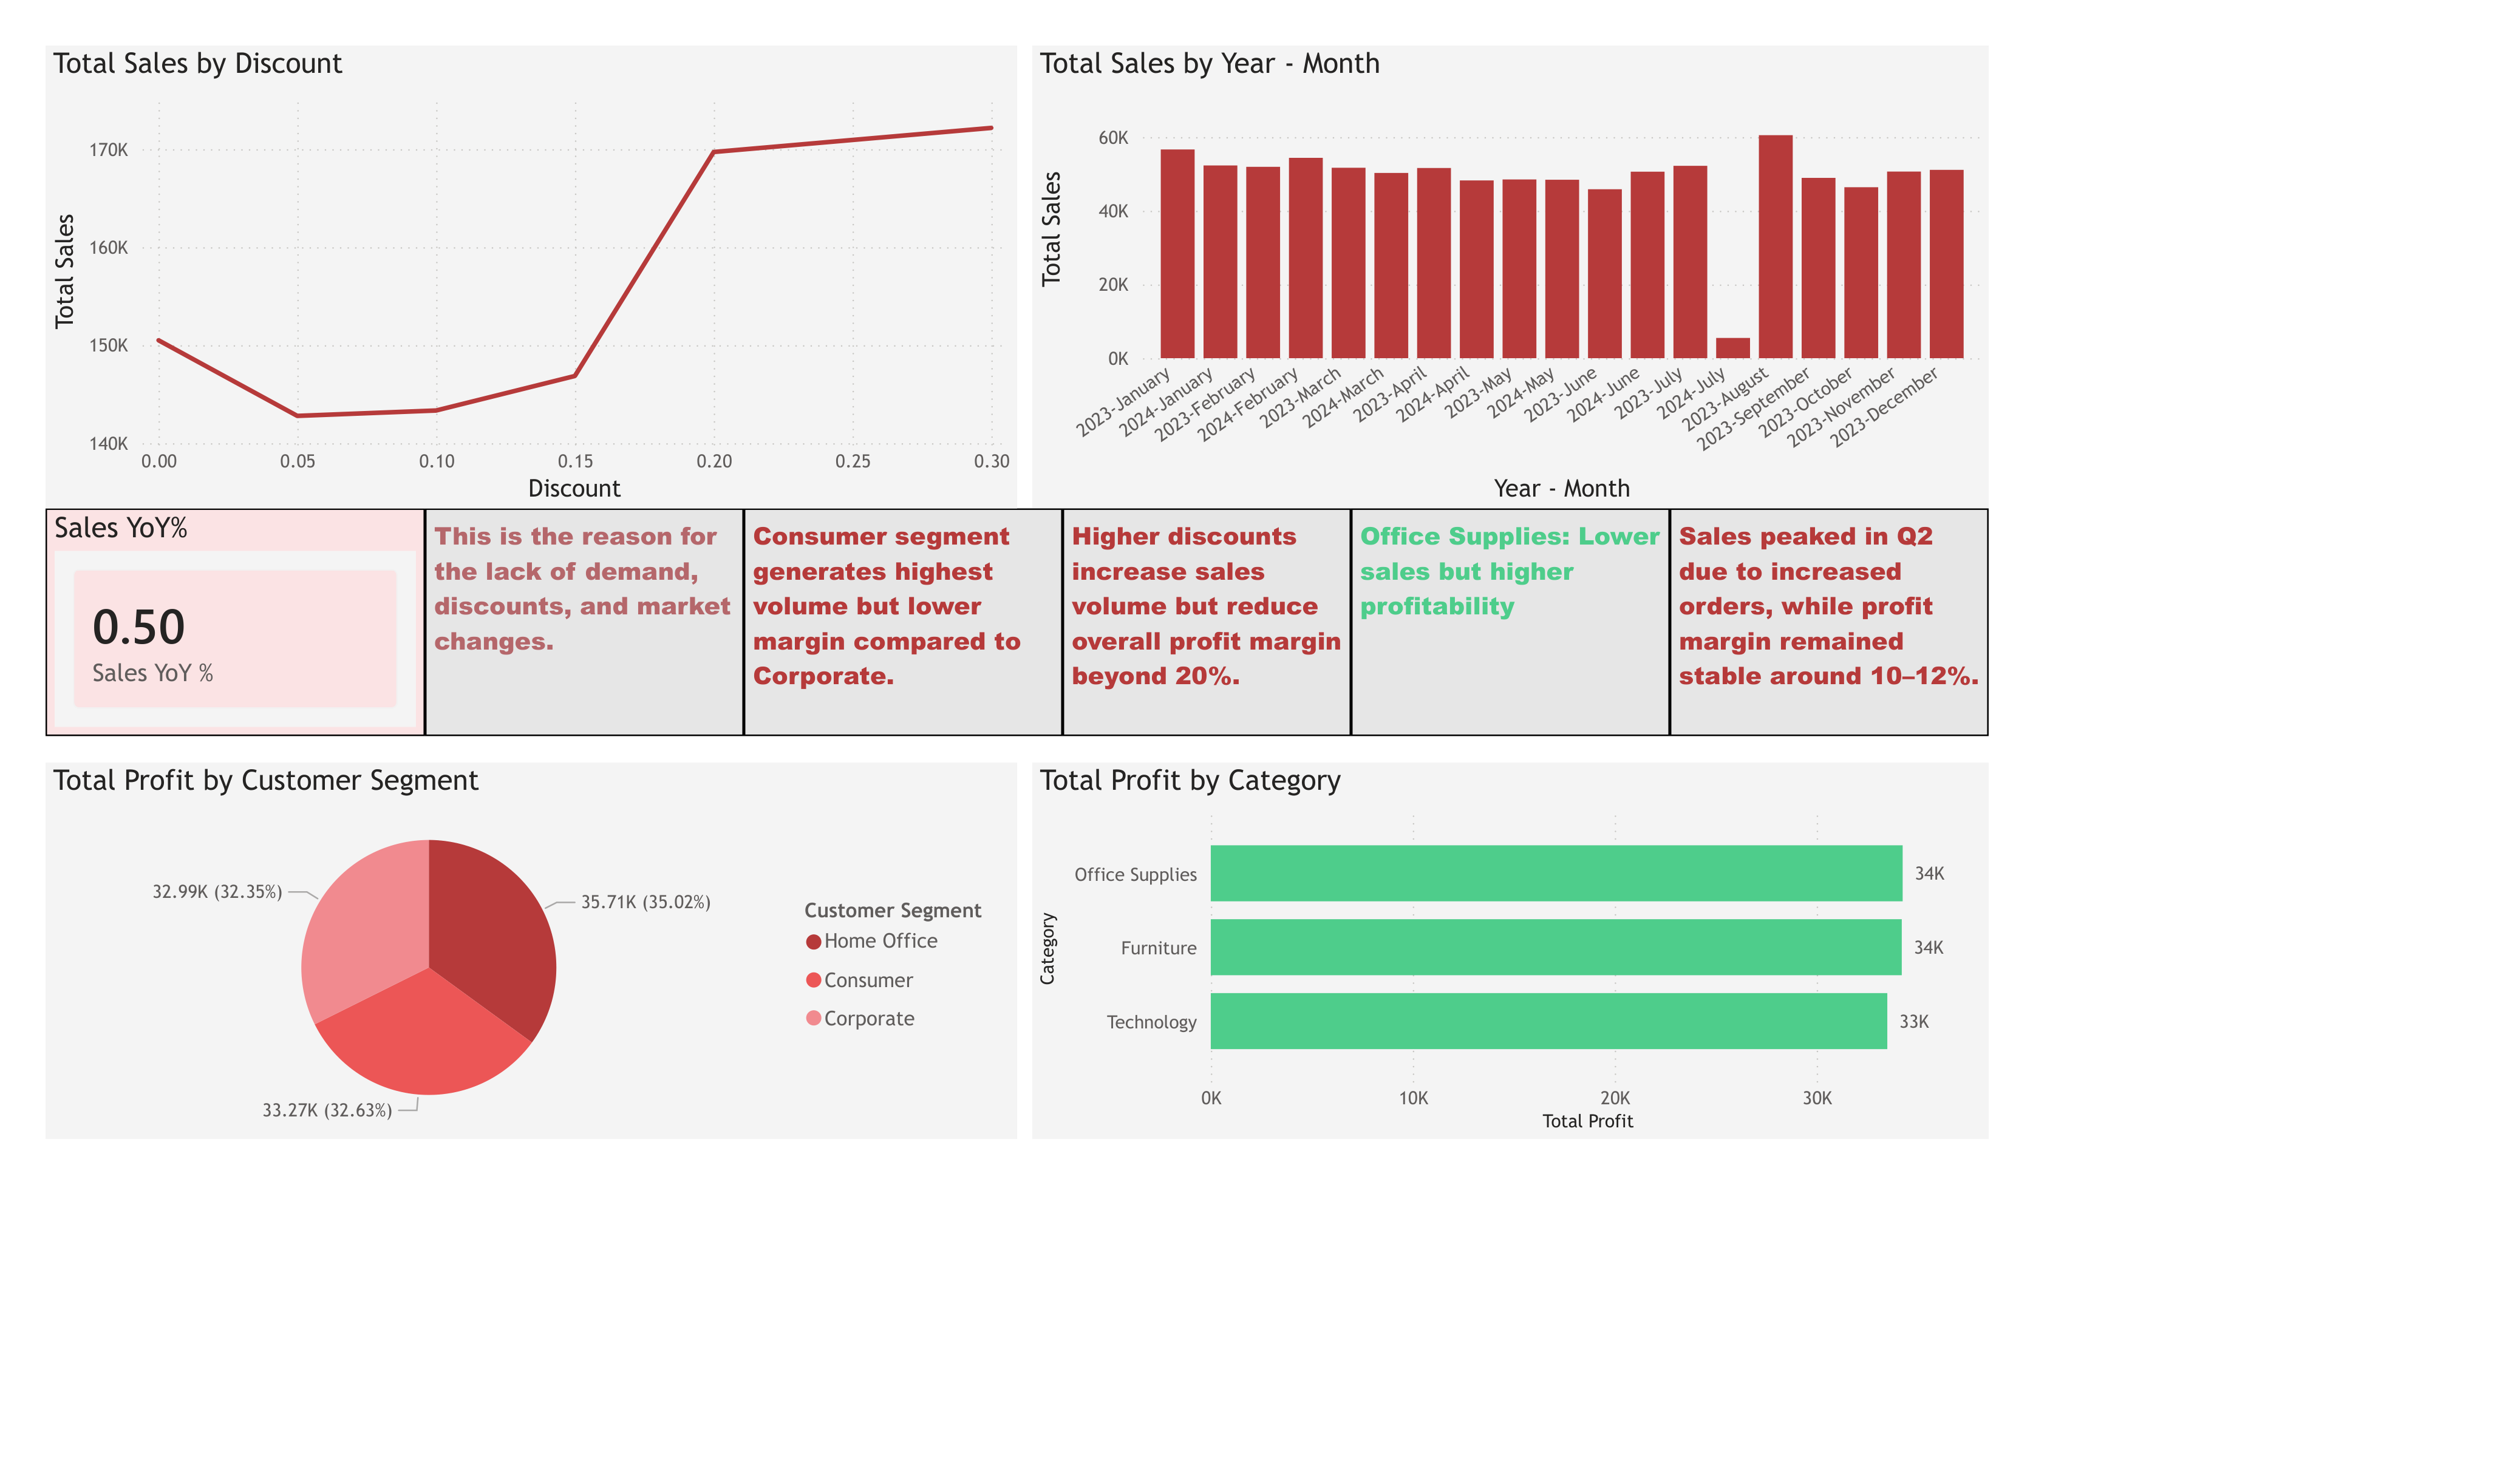

This screenshot's page, from the dashboard's own definition file:
{"tool":"powerbi","page":{"name":"Insight","canvas":[1280,720],"ordinal":6},"visuals":[{"type":"cardVisual","title":"Sales YoY%","fields":{"Data":["Measures (2).Sales YoY %"]},"box":[0,305,250,150],"z":0},{"type":"textbox","box":[250,305,210,150],"z":1},{"type":"clusteredColumnChart","fields":{"Category":["Date Table.Year - Month"],"Y":["Measures (2).Total Sales"]},"box":[650,0,630,305],"z":2},{"type":"textbox","box":[1070,305,210,150],"z":3},{"type":"clusteredBarChart","fields":{"Category":["Sales_Table1.Category"],"Y":["Measures (2).Total Profit"]},"box":[650,472.5,630,247.5],"z":4},{"type":"textbox","box":[860,305,210,150],"z":5},{"type":"pieChart","fields":{"Category":["Sales_Table1.Customer Segment"],"Y":["Measures (2).Total Profit"]},"box":[0,472.5,640,247.5],"z":6},{"type":"textbox","box":[460,305,210,150],"z":7},{"type":"lineChart","fields":{"Category":["Sales_Table1.Discount"],"Y":["Measures (2).Total Sales"]},"box":[0,0,640,305],"z":8},{"type":"textbox","box":[670,305,190,150],"z":9}]}

Visuals, with their boxes on the page's 1280x720 design canvas (x1, y1, x2, y2). These are canvas units, not pixel positions in the 2520x1457 screenshot, which may show the page scaled, cropped or inside an application window:
"Sales YoY%" cardVisual: BBox(0, 305, 250, 455)
textbox: BBox(250, 305, 460, 455)
clusteredColumnChart - Date Table.Year - Month x Measures (2).Total Sales: BBox(650, 0, 1280, 305)
textbox: BBox(1070, 305, 1280, 455)
clusteredBarChart - Sales_Table1.Category x Measures (2).Total Profit: BBox(650, 472, 1280, 720)
textbox: BBox(860, 305, 1070, 455)
pieChart - Sales_Table1.Customer Segment x Measures (2).Total Profit: BBox(0, 472, 640, 720)
textbox: BBox(460, 305, 670, 455)
lineChart - Sales_Table1.Discount x Measures (2).Total Sales: BBox(0, 0, 640, 305)
textbox: BBox(670, 305, 860, 455)
